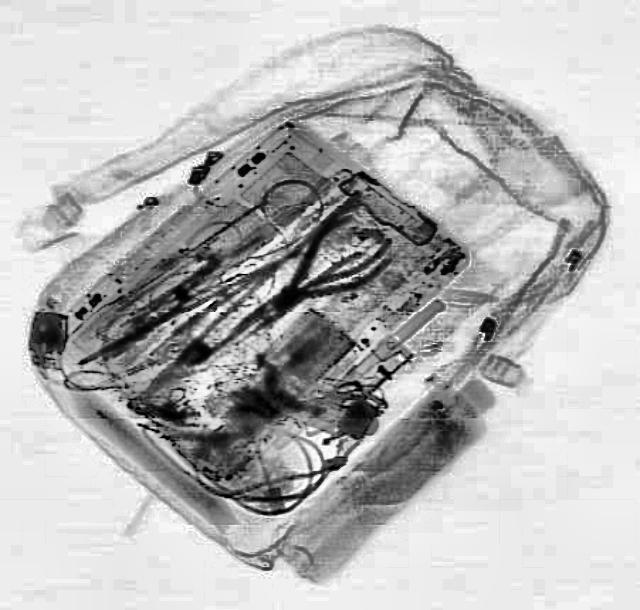Pliers: (190, 208, 396, 374), (222, 200, 396, 348)
